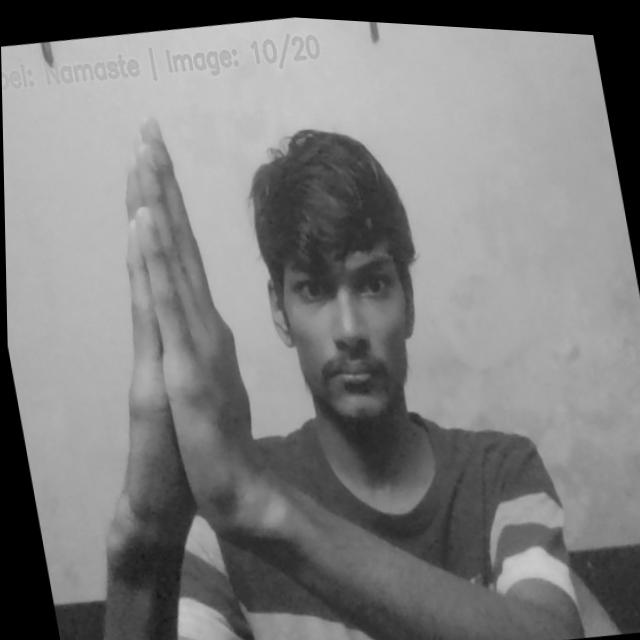Namaste: (53, 98, 278, 547)
